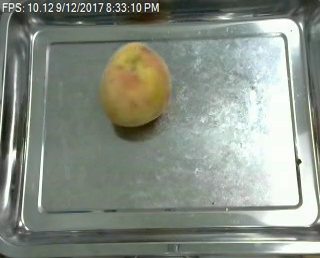Peach: (98, 41, 170, 128)
